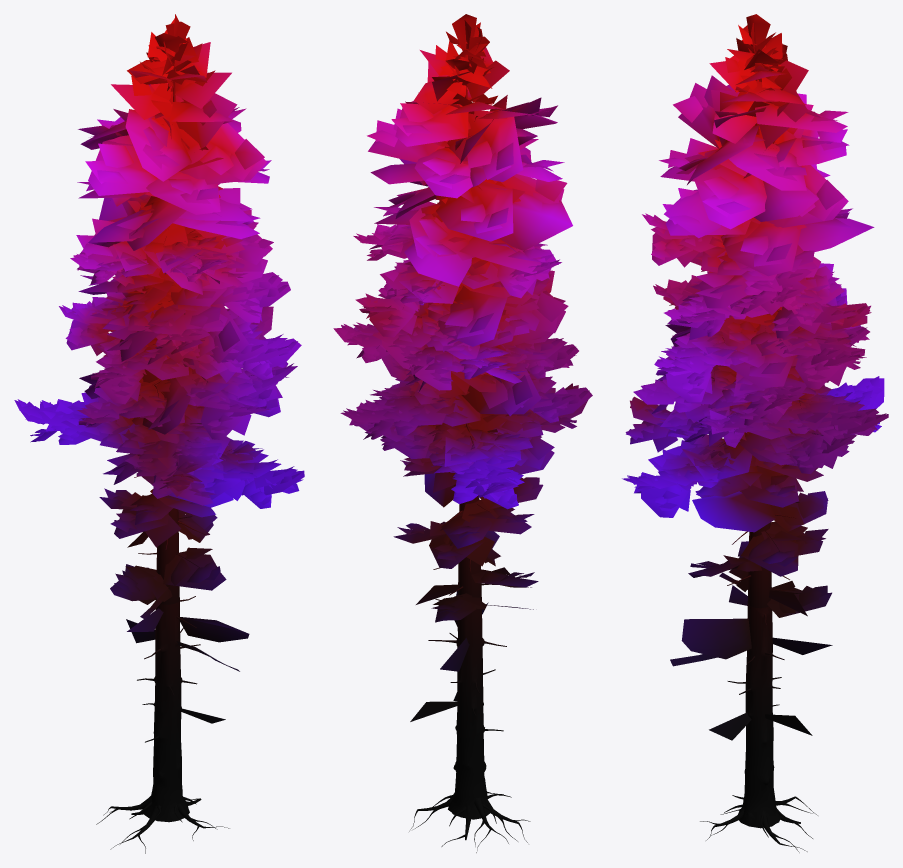
File: Fir_05_Standalone_advanced.FBX
The picture shows the model from 3 angles, left to right: view 1: azimuth 30°, elevation 25°; view 2: azimuth 150°, elevation 25°; view 3: azimuth 270°, elevation 25°; orthographic projection.
Visible parts, largest first — view 1: Fir_05_leaves_LOD0, Fir_05_bark_LOD0; view 2: Fir_05_leaves_LOD0, Fir_05_bark_LOD0; view 3: Fir_05_leaves_LOD0, Fir_05_bark_LOD0.
Boxes of the visible parts, x1,y1,x2,y2 form: Fir_05_leaves_LOD0: (14, 14, 304, 723); Fir_05_bark_LOD0: (96, 69, 254, 853); Fir_05_leaves_LOD0: (333, 14, 592, 721); Fir_05_bark_LOD0: (409, 86, 530, 852); Fir_05_leaves_LOD0: (622, 14, 888, 740); Fir_05_bark_LOD0: (700, 66, 823, 852).
Size of what is drawn, in the model's own units: 5309 by 18539 by 5422.
